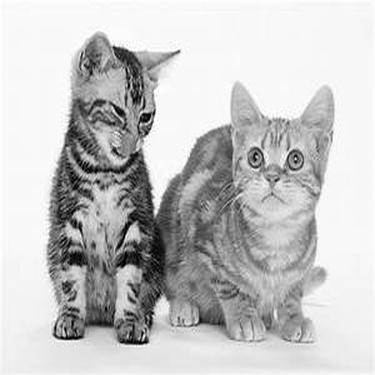cat: (156, 75, 336, 346), (47, 31, 182, 345)
